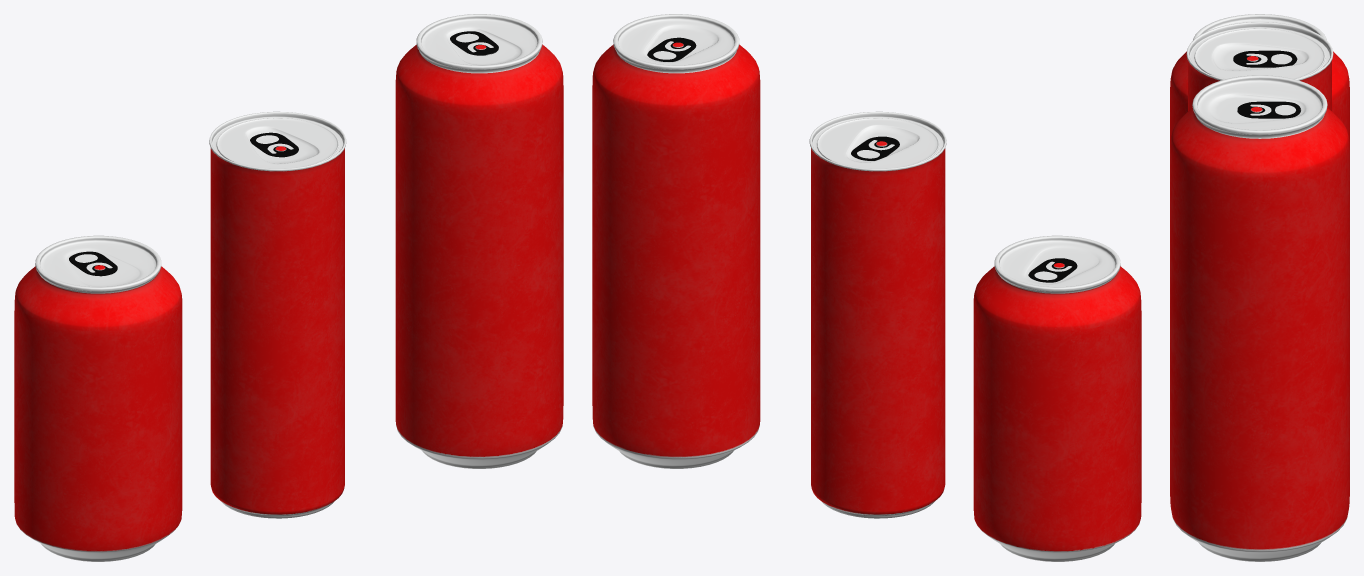
Rendered from Cans.fbx.
The picture shows the model from 3 angles, left to right: view 1: azimuth 30°, elevation 25°; view 2: azimuth 150°, elevation 25°; view 3: azimuth 270°, elevation 25°; orthographic projection. The views are drawn at different scales.
Visible parts, largest first — view 1: Big, Medium, Small; view 2: Big, Medium, Small; view 3: Big, Medium, Small.
Part boxes in pixels (left/top/right/bottom): Big: left=395, top=14, right=563, bottom=468; Medium: left=209, top=111, right=346, bottom=518; Small: left=14, top=235, right=182, bottom=561; Big: left=592, top=14, right=760, bottom=468; Medium: left=809, top=111, right=946, bottom=518; Small: left=973, top=235, right=1141, bottom=561; Big: left=1170, top=75, right=1349, bottom=561; Medium: left=1186, top=22, right=1333, bottom=110; Small: left=1170, top=14, right=1349, bottom=147.
Size of the model in its own units: 89.26 by 65.49 by 24.68.
